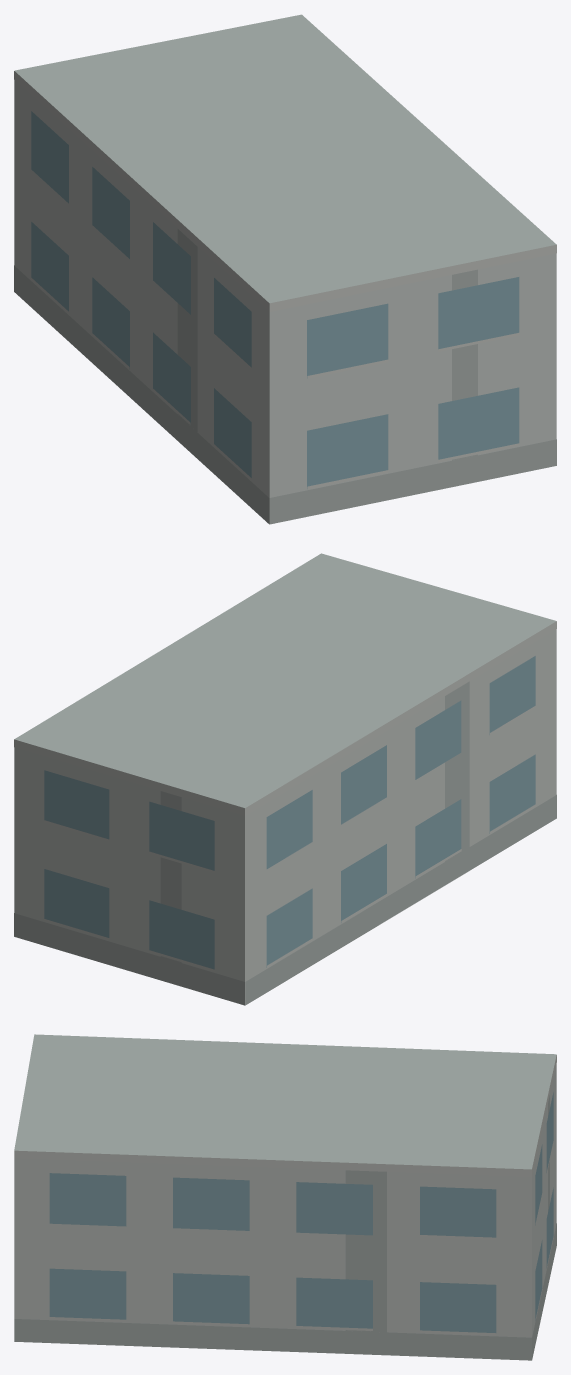
File: survey-upis-33003317.glb
3 views of the same model, one above another, from view 1: azimuth 30°, elevation 25°; view 2: azimuth 150°, elevation 25°; view 3: azimuth 270°, elevation 25° (orthographic). The views are drawn at different scales.
Visible parts, largest first — view 1: survey-upis-33003317.tmp; view 2: survey-upis-33003317.tmp; view 3: survey-upis-33003317.tmp.
Part boxes in pixels (x1=…): survey-upis-33003317.tmp: x1=14, y1=14, x2=556, y2=524; survey-upis-33003317.tmp: x1=14, y1=553, x2=556, y2=1005; survey-upis-33003317.tmp: x1=14, y1=1034, x2=556, y2=1360.
Size of the model in its own units: 9.26 by 6.1 by 15.71.
